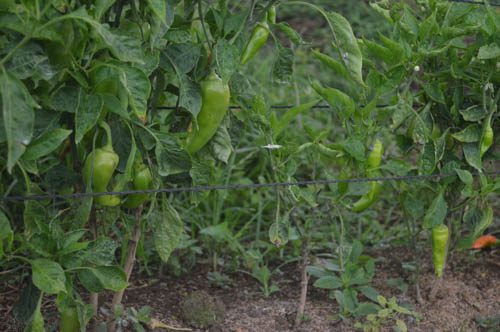ChiliPepper: (184, 80, 232, 149), (84, 151, 120, 194), (124, 172, 156, 210), (240, 29, 269, 66), (428, 225, 448, 276)
